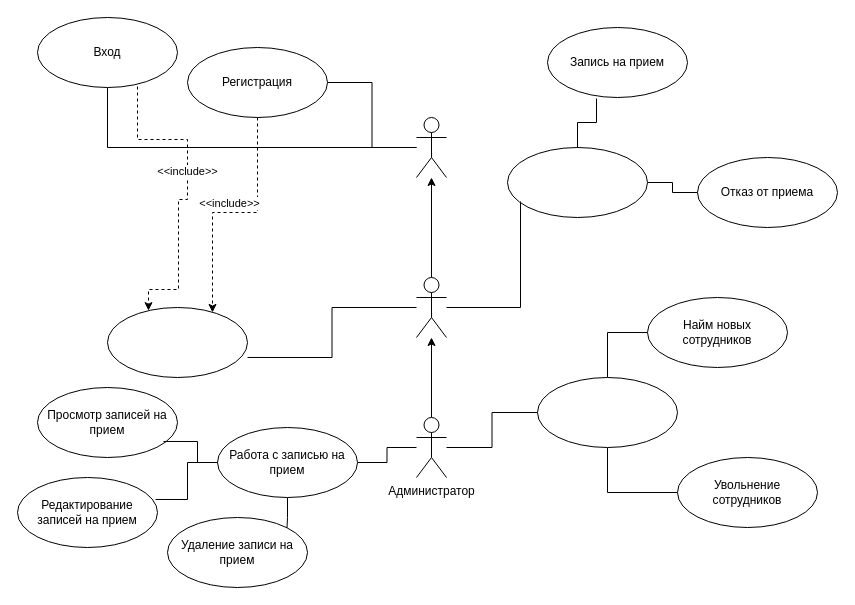
Some shapes in this 855 by 605 pixel diagram are drawn without their labels. The box of each missing label's shape, as (x1, y1, x2, y2) in pixels:
Авторизованный Пользователь: (416, 276, 446, 338)
Пользователь: (416, 116, 446, 178)
Работа с приемом: (506, 146, 648, 218)
Работа с сотрудниками: (536, 376, 678, 448)
Редактирование профиля: (106, 306, 248, 378)
